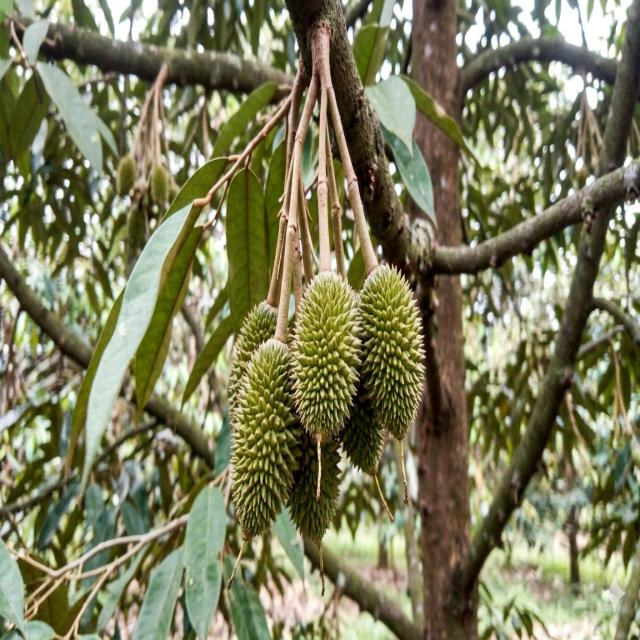immature: (228, 338, 302, 539), (354, 261, 425, 443), (296, 265, 361, 453), (288, 423, 343, 549), (230, 300, 282, 396), (318, 310, 332, 395), (127, 203, 147, 252), (116, 152, 137, 198), (150, 161, 170, 208)
